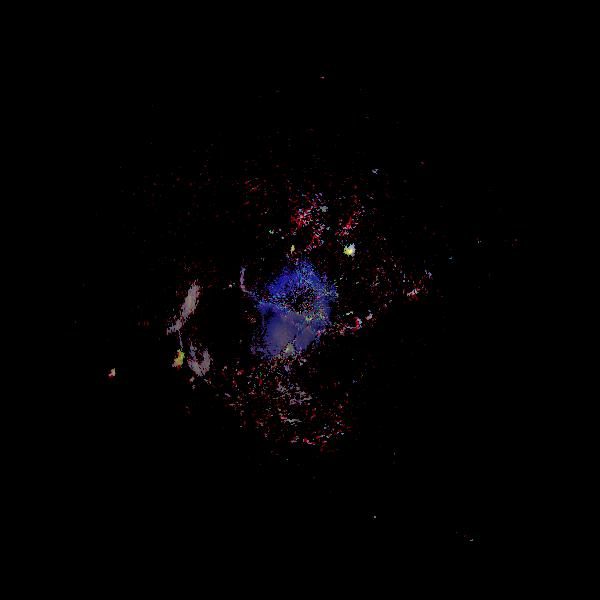roost: (345, 246, 357, 258)
